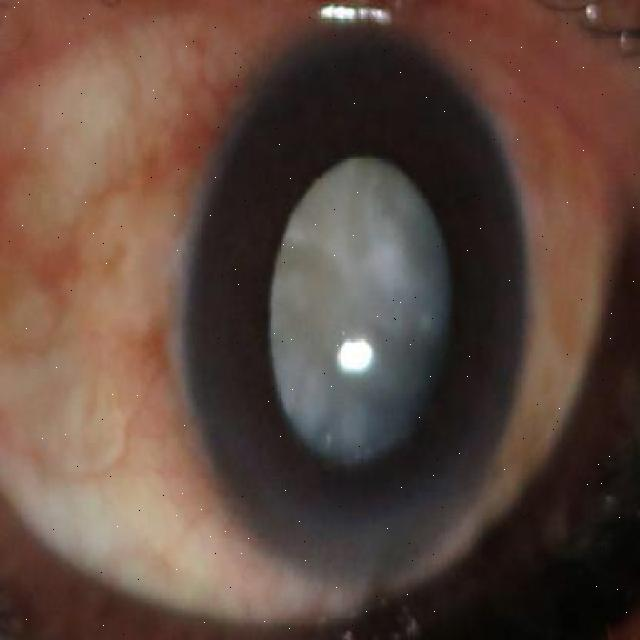Cataract: (181, 28, 526, 590)
